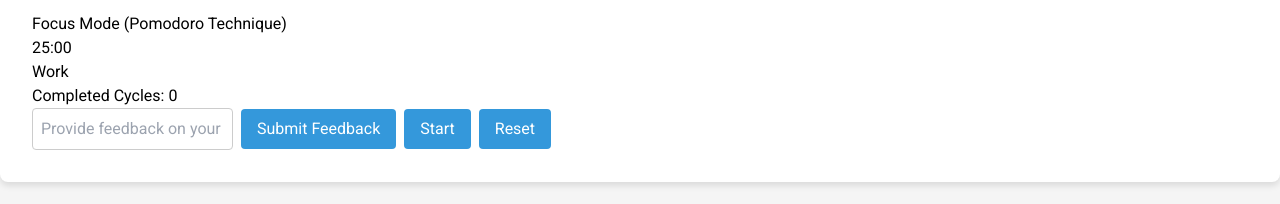
Scenario: FocusMode › starts and pauses timer
Click the button "Start": coordinates (438, 129) [404,109,471,149]
Wait 1000 ms
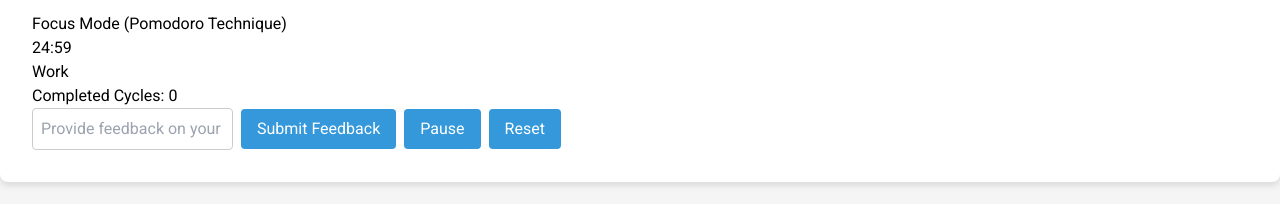
Expected: the button "Start" reads "Pause"
Expected: the text "24:59" is shown, [32,38,72,57]
Click the button "Start": coordinates (442, 129) [404,109,481,149]
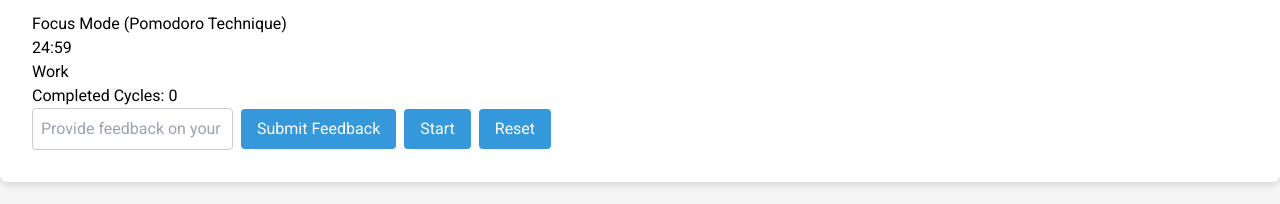
Expected: the button "Start" is shown, [404,109,471,149]
